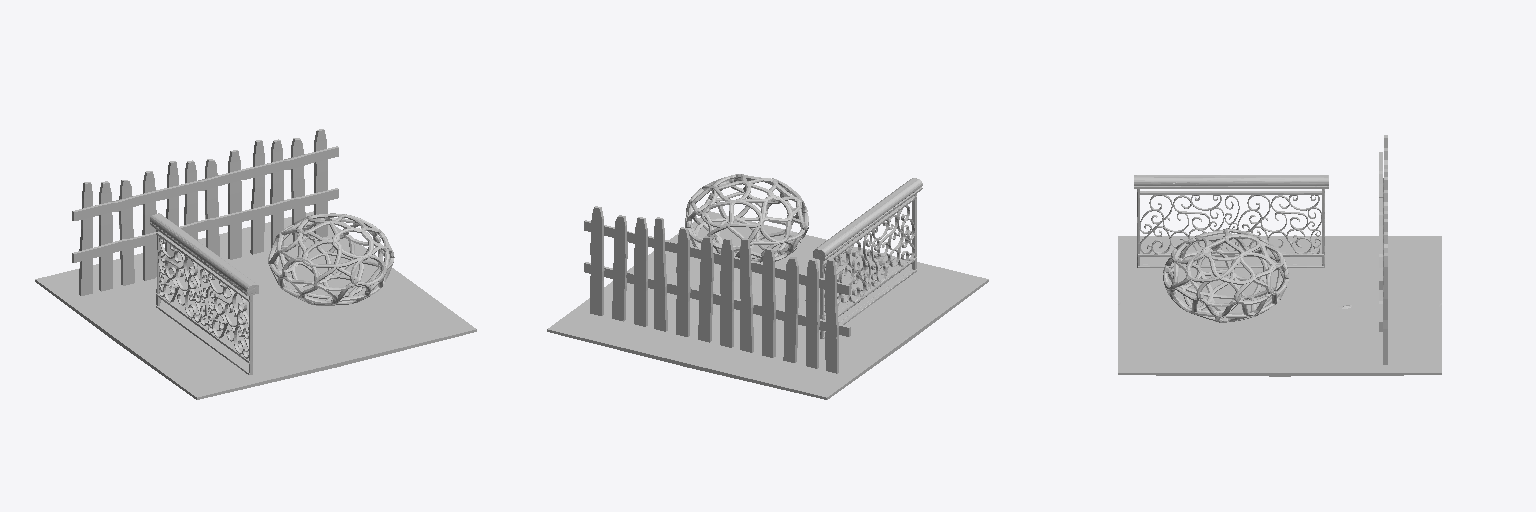
Rendered from hifreq_fixed.obj.
3 renders of one model, left to right at view 1: azimuth 30°, elevation 25°; view 2: azimuth 150°, elevation 25°; view 3: azimuth 270°, elevation 25°, orthographic.
Visible parts, largest first — view 1: plane_simp, file.004, fence2_m, ball_3d; view 2: plane_simp, file.004, fence2_m, ball_3d; view 3: plane_simp, fence2_m, ball_3d, file.004.
Boxes of the visible parts, box(x1,y1,x2,y2) form: plane_simp: box(35, 211, 476, 399); file.004: box(72, 129, 338, 295); fence2_m: box(150, 213, 258, 374); ball_3d: box(268, 213, 394, 305); plane_simp: box(547, 211, 988, 399); file.004: box(584, 206, 850, 373); fence2_m: box(813, 178, 922, 338); ball_3d: box(685, 174, 808, 262); plane_simp: box(1118, 236, 1441, 376); fence2_m: box(1134, 175, 1328, 267); ball_3d: box(1163, 228, 1288, 322); file.004: box(1379, 135, 1387, 364).
Bounding box in the file's own units: 3 × 1.29 × 3.